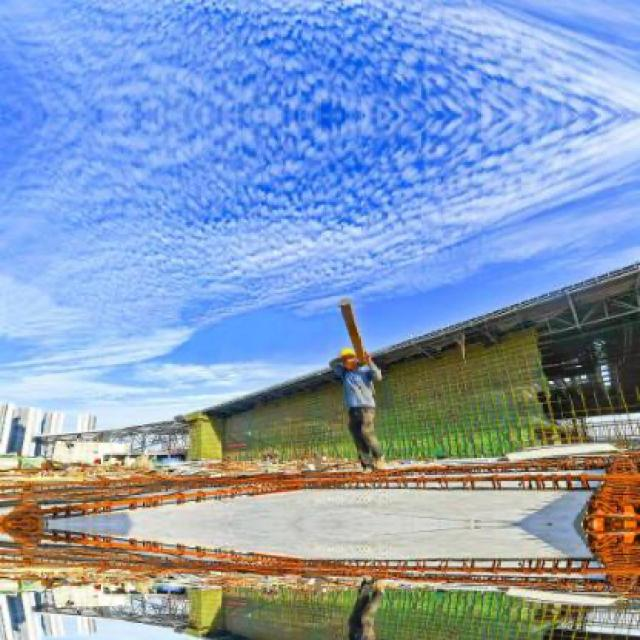helmet: (337, 347, 358, 370)
